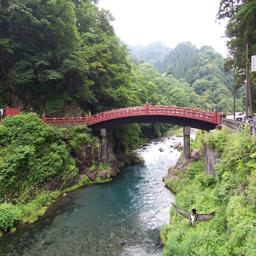Swallow: (170, 201, 216, 229)
